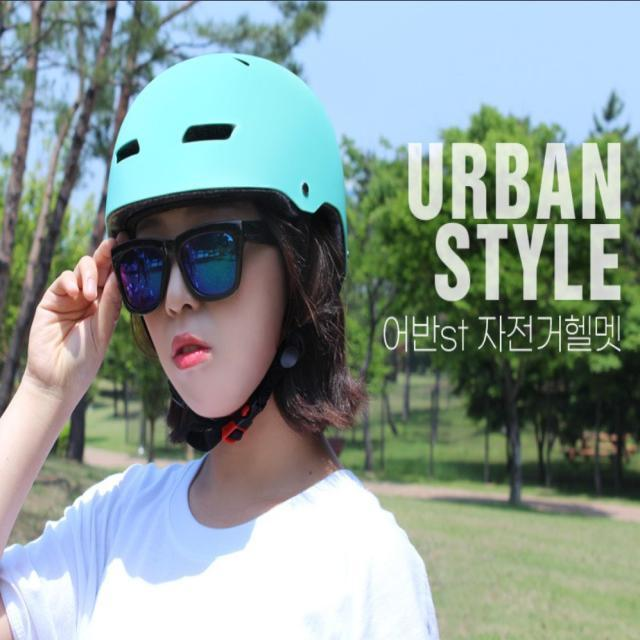helmet: (104, 50, 350, 450)
